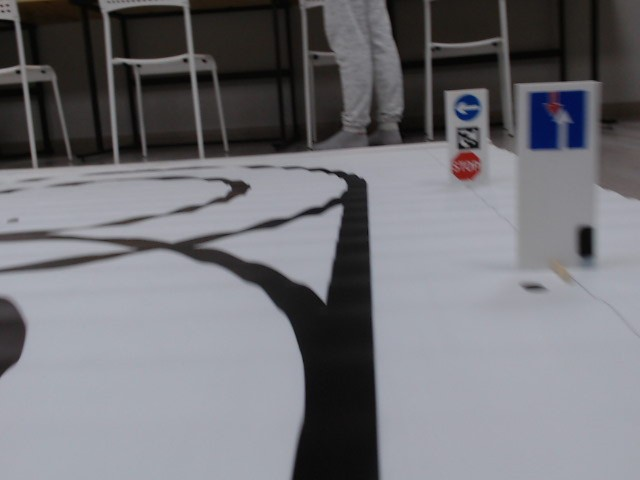Stop: (451, 152, 481, 179)
priority_movement: (524, 88, 590, 151)
